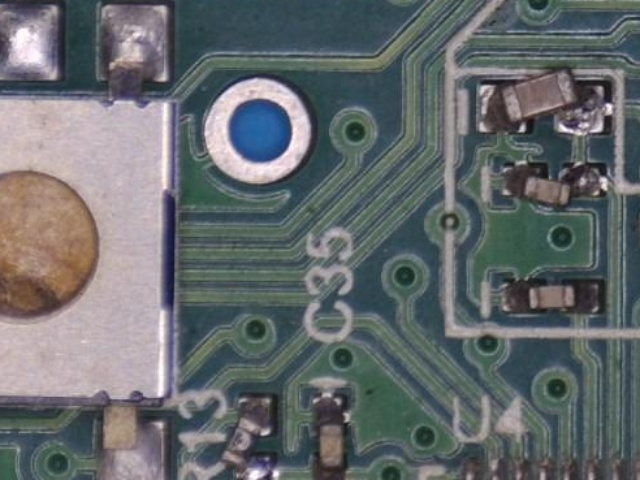pcb_defect: (477, 67, 605, 134), (221, 396, 274, 480), (502, 167, 600, 206)
